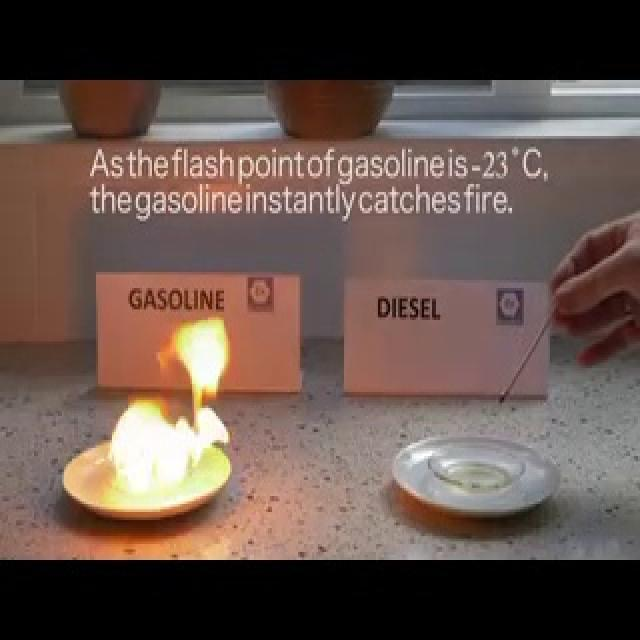fire: (106, 308, 237, 492)
